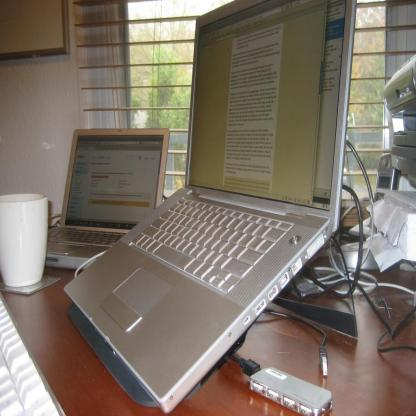board: (63, 0, 357, 414), (46, 129, 170, 269)
